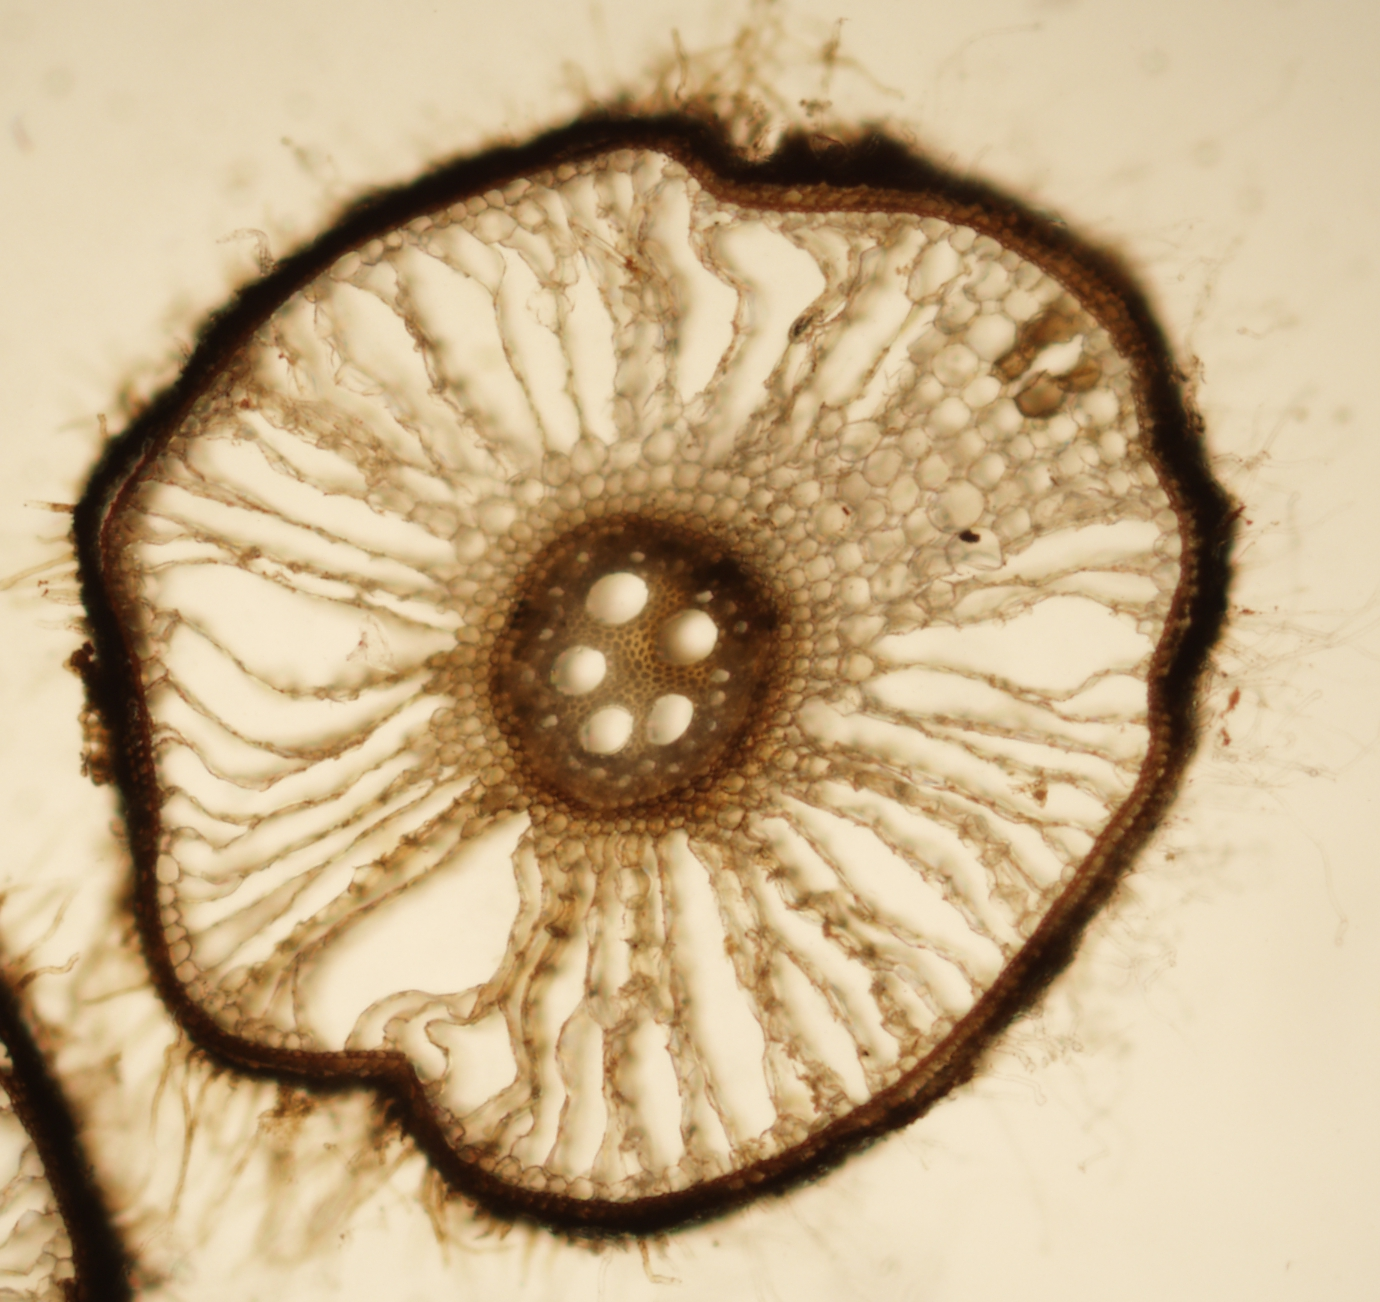lm: (655, 608, 718, 666), (585, 571, 648, 625), (549, 645, 606, 696), (577, 704, 634, 754), (646, 693, 694, 746)
